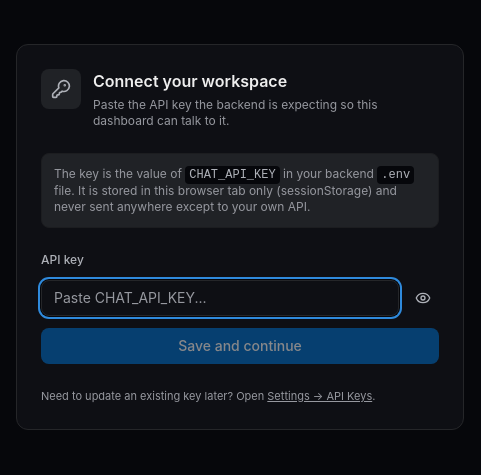
Test: SetupPage › uses a safe generic validation error for non-Error failures
The image size is (481, 475).
Type "candidate-key" into the password field labelled "API key".
click(220, 298); type("candidate-key")  # box x1=41 y1=280 x2=399 y2=316
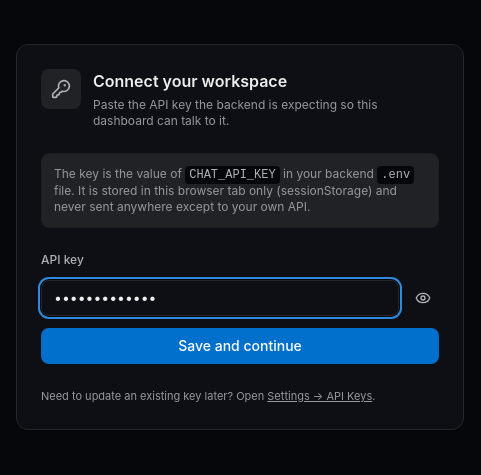
Click the button "Save and continue".
click(240, 346)  # box x1=41 y1=328 x2=439 y2=364
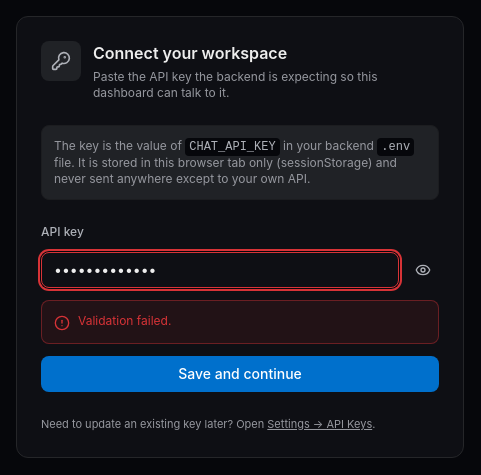
expect the message does not show "do not expose": met, box x1=41 y1=300 x2=439 y2=344
expect the message reads "Validation failed.": met, box x1=78 y1=313 x2=171 y2=328
